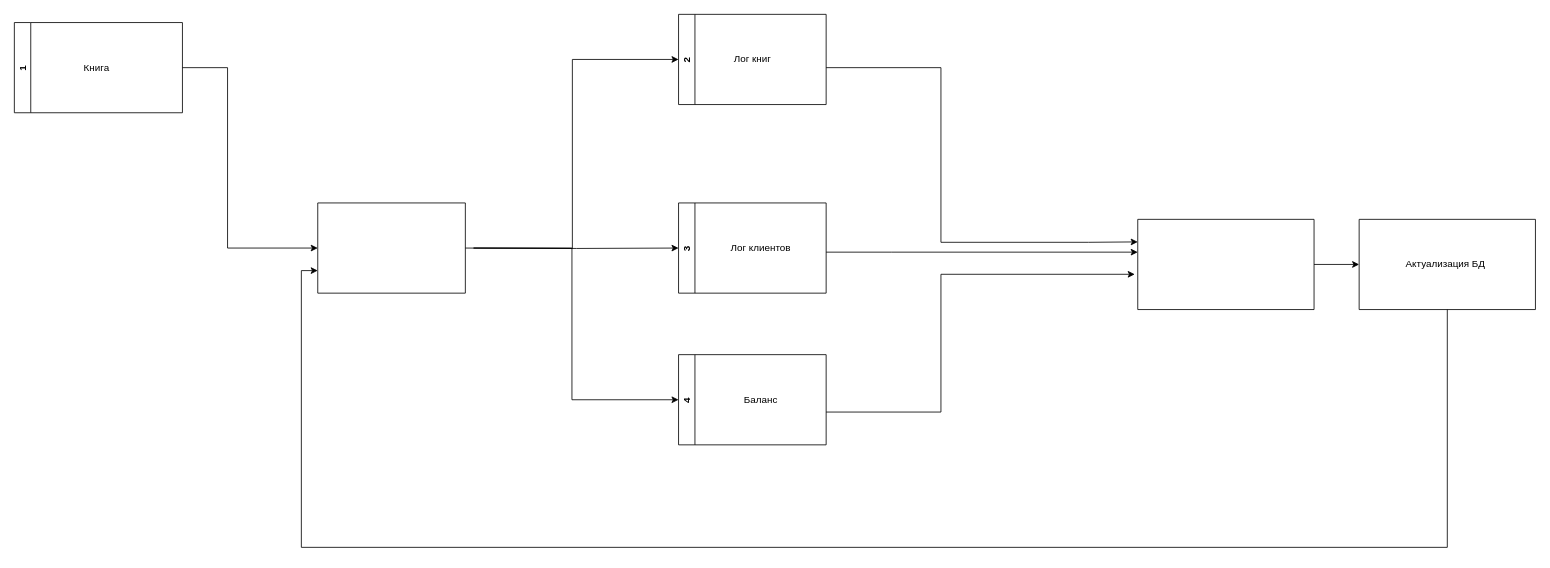
This 1550x568 diagram has some shape labels left out. The centre of each missing label's shape, as x and y in pixels:
"Логирование" goes at (x=391, y=247).
"Принятие решение о выдаче книги" goes at (x=1225, y=264).
